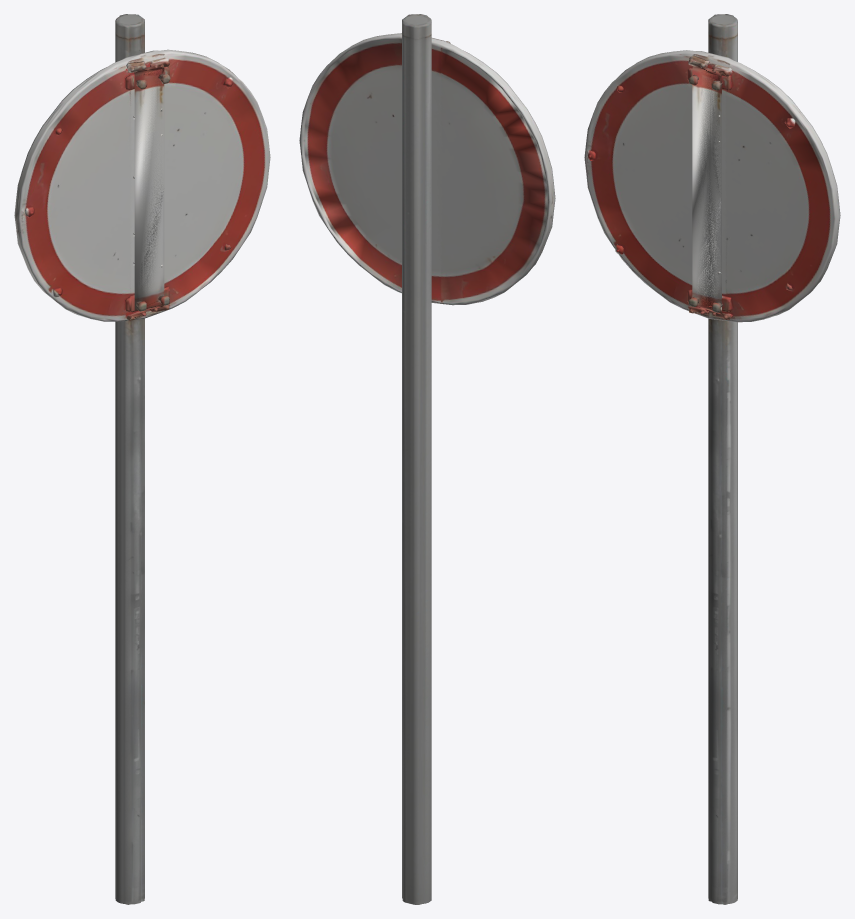
The model's file is original_glb.glb.
3 renders of one model, left to right at view 1: azimuth 30°, elevation 25°; view 2: azimuth 150°, elevation 25°; view 3: azimuth 330°, elevation 25°, orthographic.
Parts seen in each view (by area): view 1: round road sign; view 2: round road sign; view 3: round road sign.
Boxes of the visible parts, left/top/right/bottom form: round road sign: left=14, top=14, right=270, bottom=904; round road sign: left=299, top=14, right=555, bottom=904; round road sign: left=584, top=14, right=840, bottom=904.
Bounding box in the file's own units: 0.2988 × 0.998 × 0.0605.
1 material, 1 textured.
